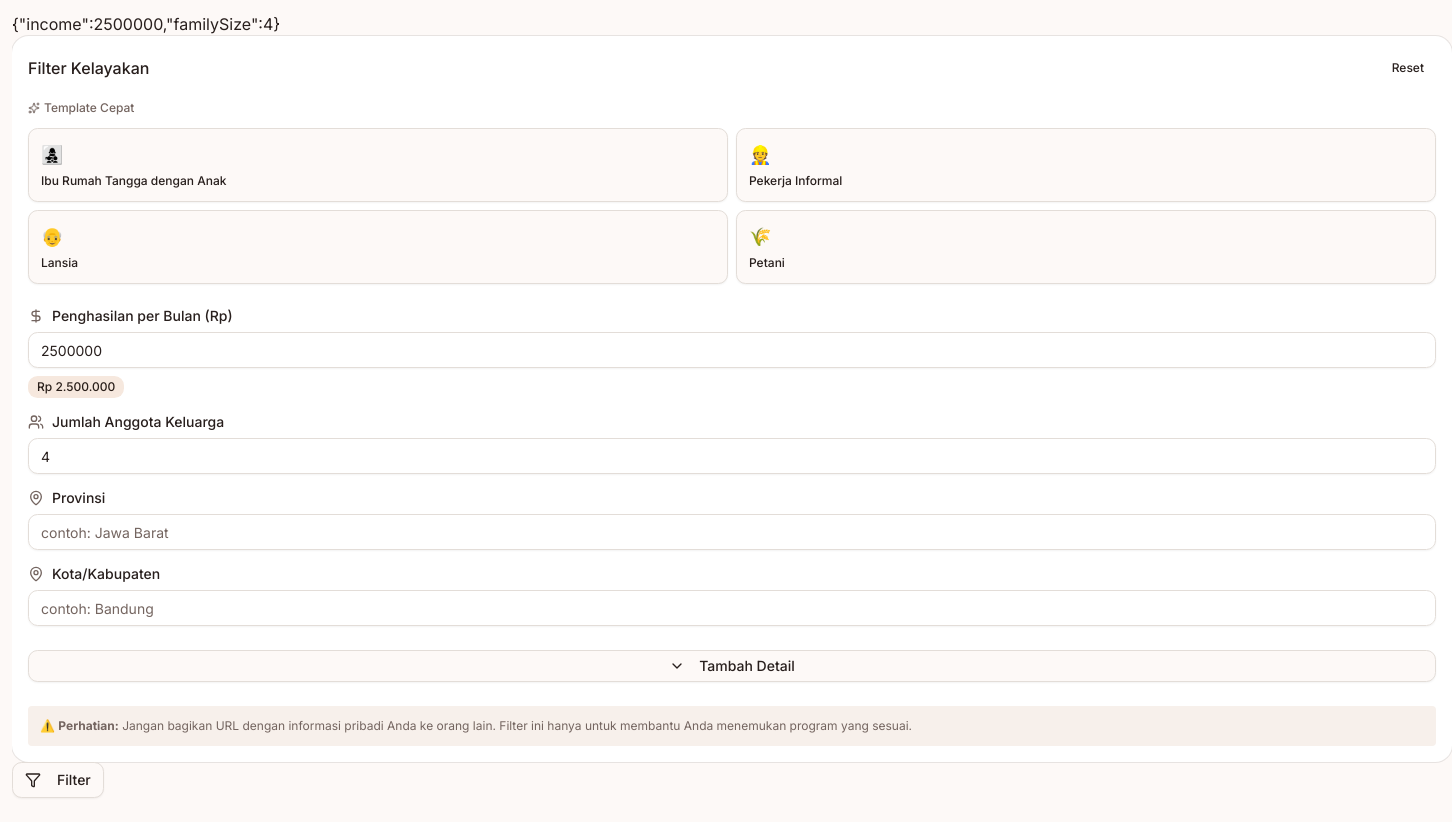
Test: Filter State Synchronization › Requirement 1.5: URL parameter synchronization maintained › sidebar filter changes update URL parameters
# Update income in sidebar
Clear the number field labelled "Penghasilan per Bulan (Rp)" at (732, 350), box [28,332,1436,368]
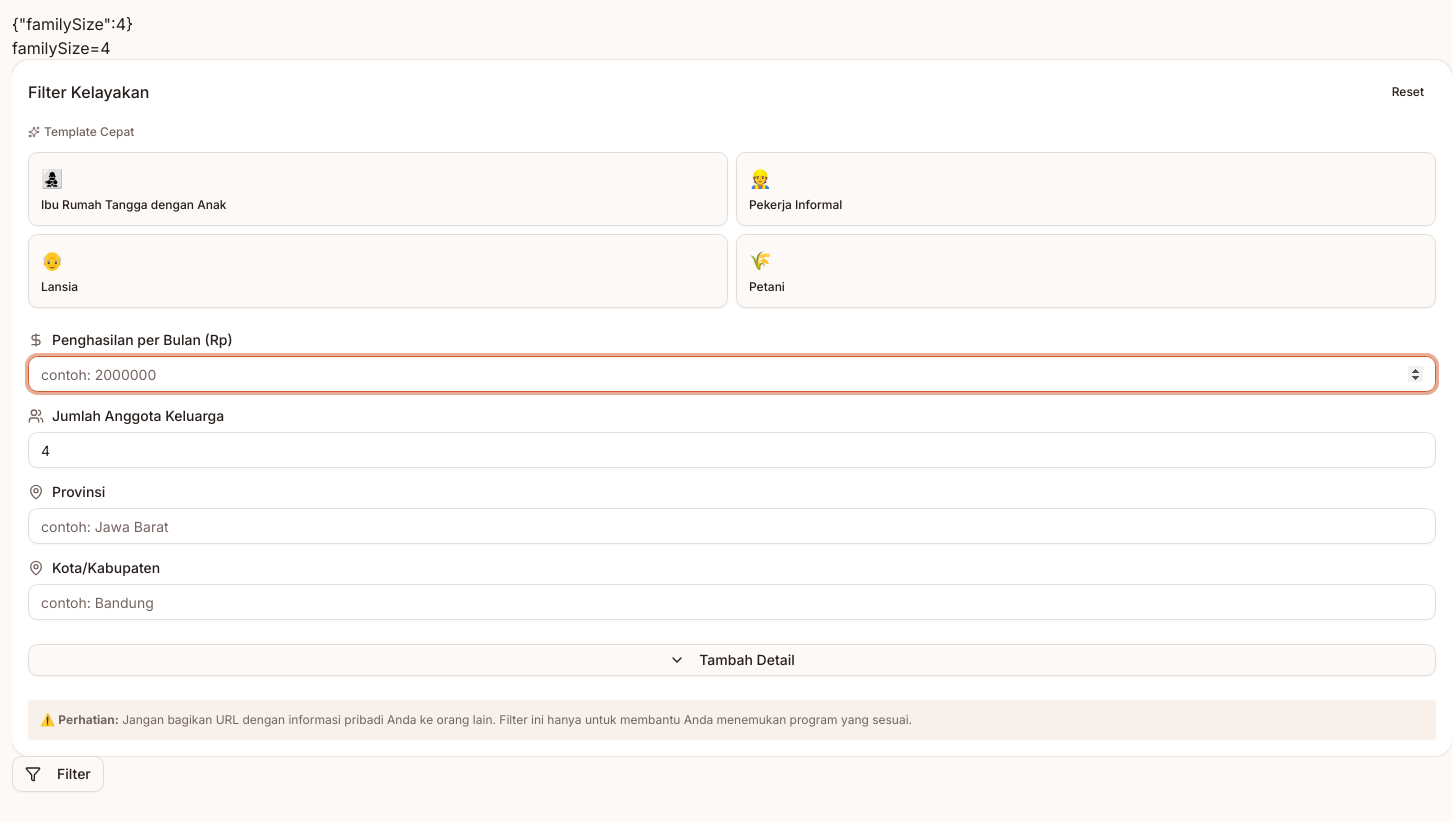
Type "2000000" into the number field labelled "Penghasilan per Bulan (Rp)" at (732, 374), box [28,356,1436,392]
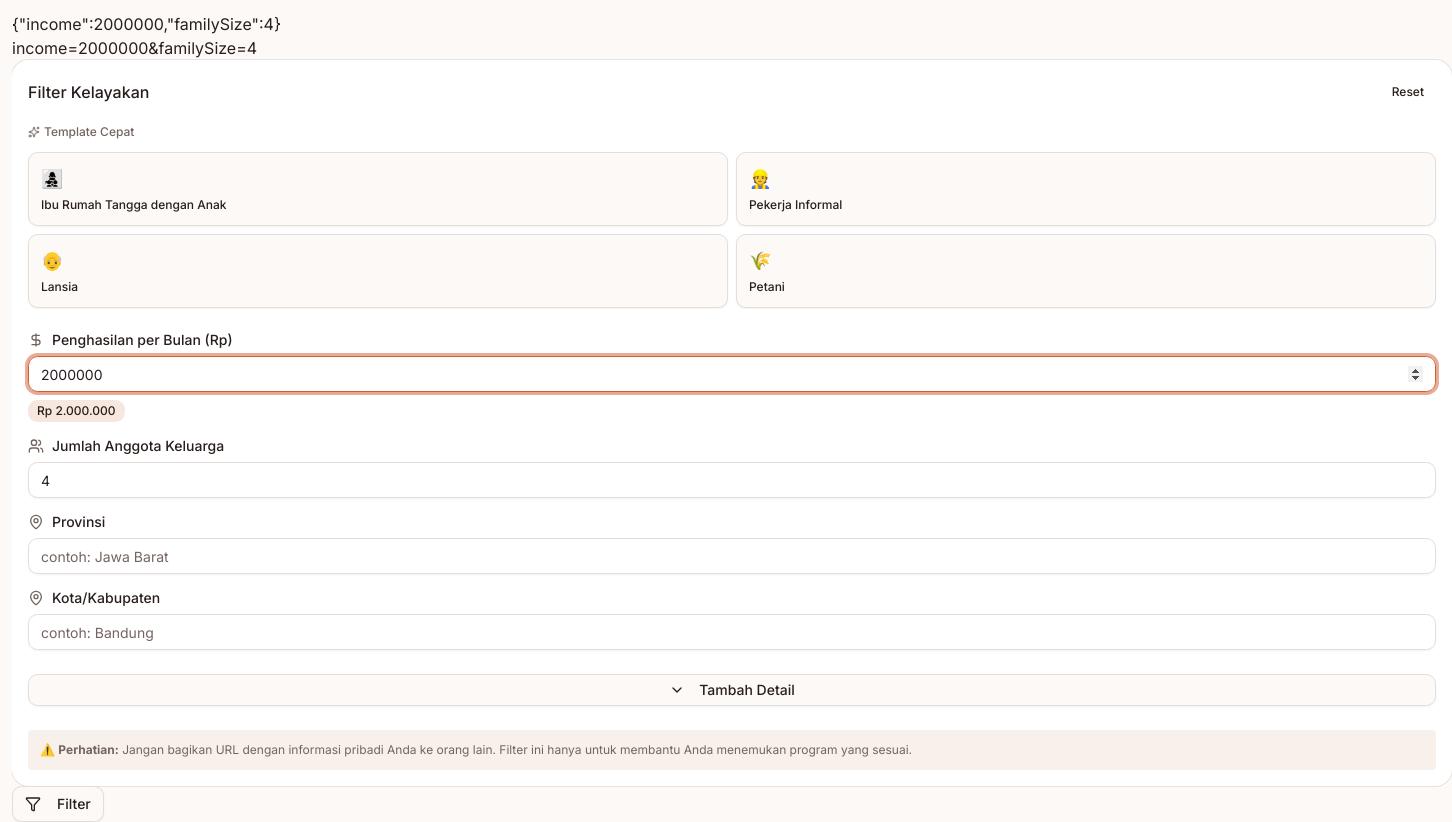
Check: the text with test id "url-params" shows "income=2000000", box [12,38,257,58]
